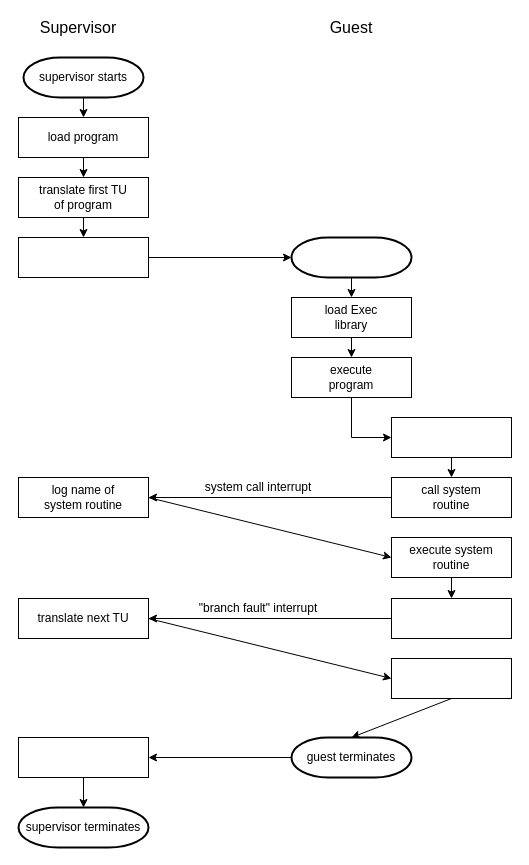
Image size: 529x865. Some labels were removed from this diagram. The centre of each missing label's shape, as x and y in pixels:
create guest process: (x=83, y=257)
execute branch instruction: (x=451, y=618)
execute first TU: (x=451, y=437)
execute next TU: (x=451, y=678)
get guest status: (x=83, y=757)
guest starts: (x=351, y=257)
